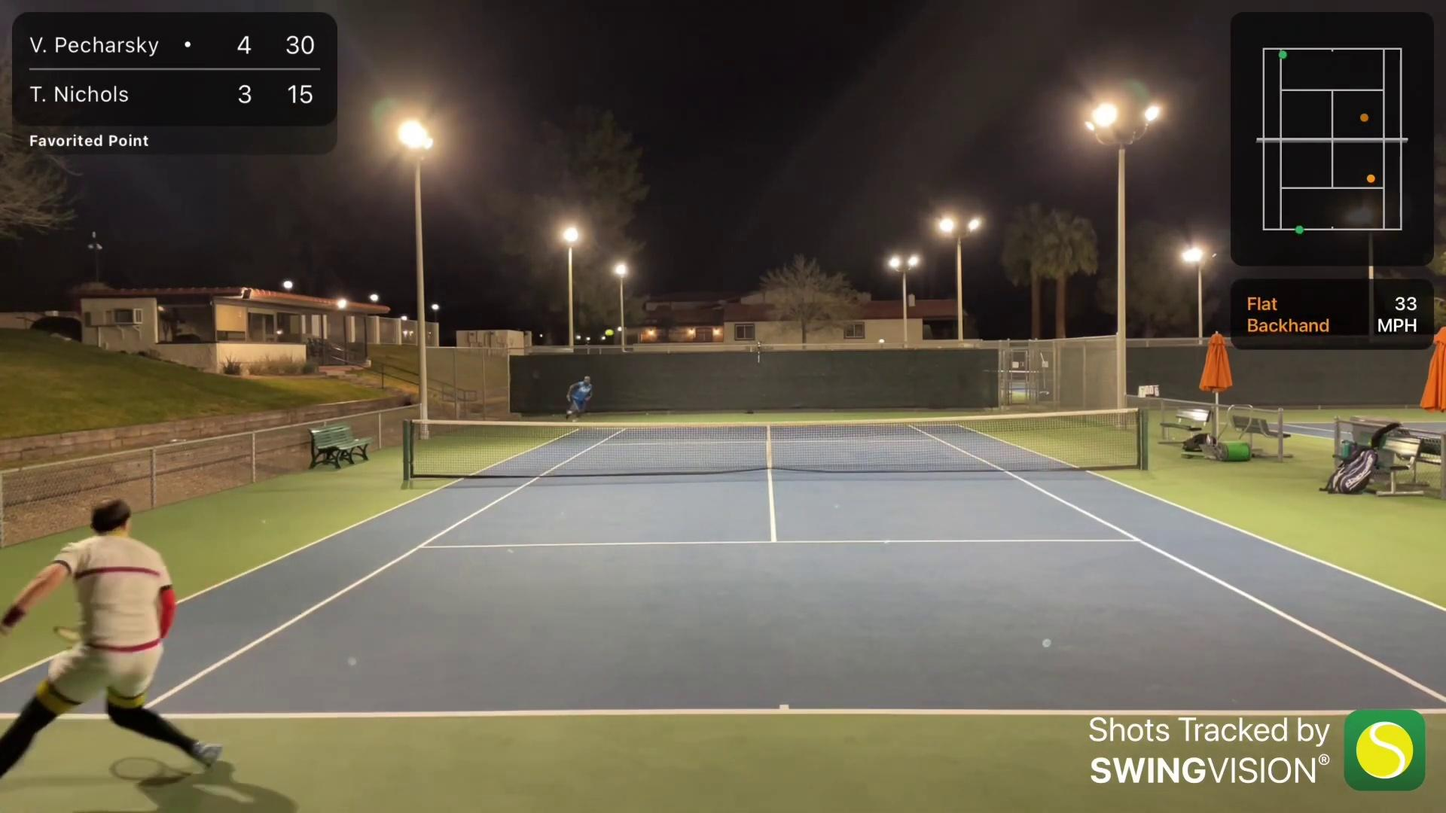ball: (604, 326, 614, 338)
